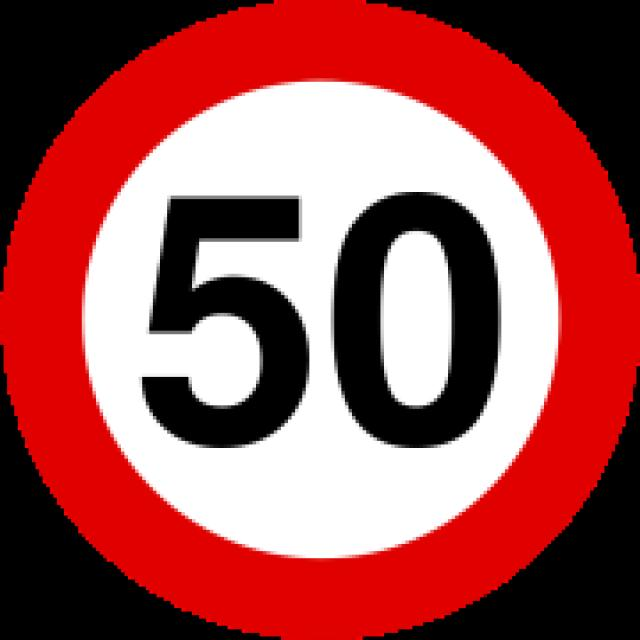Speed Limit -50-: (135, 176, 518, 458)
